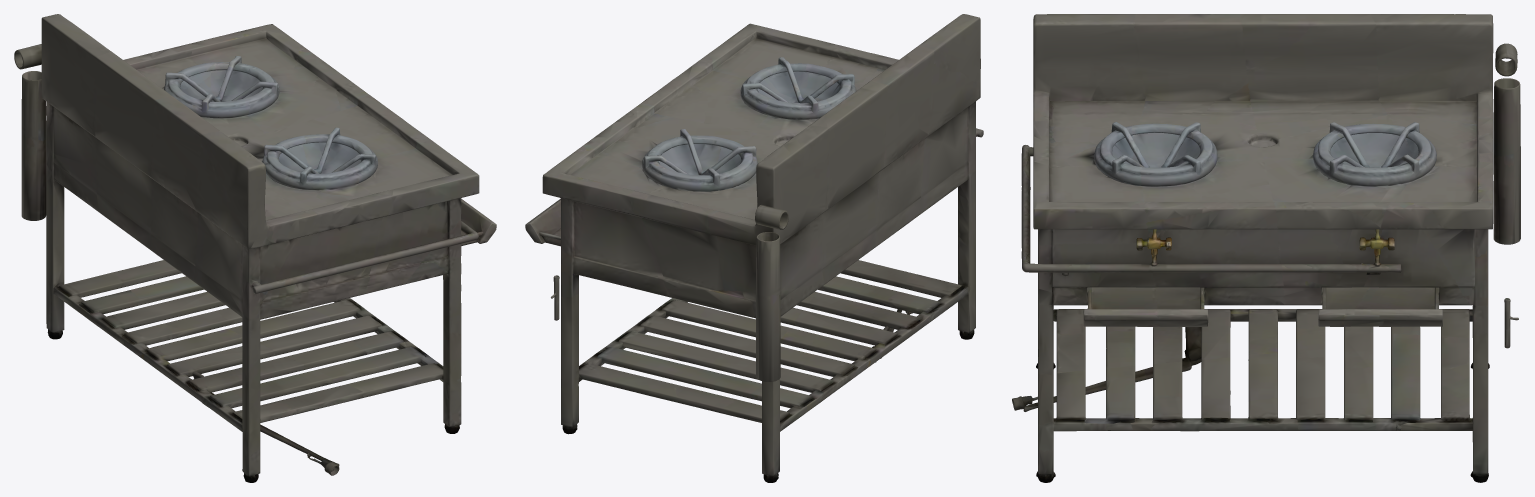
Rendered from range-m.glb.
3 views of the same model, side by side, from view 1: azimuth 30°, elevation 25°; view 2: azimuth 150°, elevation 25°; view 3: azimuth 270°, elevation 25° (orthographic). The views are drawn at different scales.
Visible parts, largest first — view 1: tripo_node_67c07428-4dbb-4303-adeb-9e2e5f27158d; view 2: tripo_node_67c07428-4dbb-4303-adeb-9e2e5f27158d; view 3: tripo_node_67c07428-4dbb-4303-adeb-9e2e5f27158d.
Part boxes in pixels (bbox=[...]): tripo_node_67c07428-4dbb-4303-adeb-9e2e5f27158d: bbox=[14, 14, 496, 482]; tripo_node_67c07428-4dbb-4303-adeb-9e2e5f27158d: bbox=[525, 14, 983, 482]; tripo_node_67c07428-4dbb-4303-adeb-9e2e5f27158d: bbox=[1012, 14, 1520, 482].
Size of the model in its own units: 0.7247 by 0.769 by 0.9993.
1 material, 1 textured.
